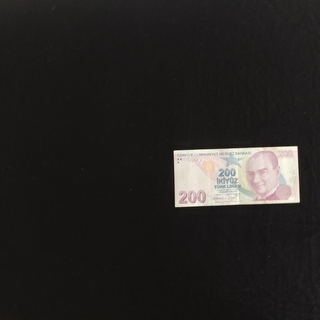200TLFront: (173, 145, 300, 207)
